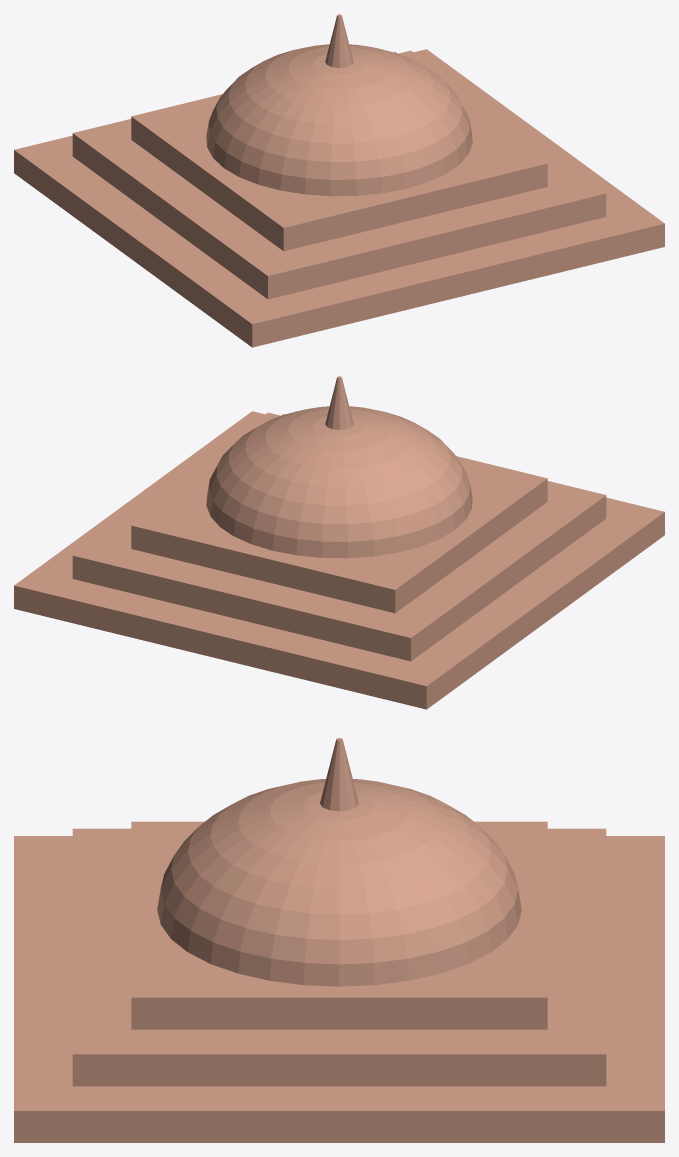
The model's file is place-sanchi-great-stupa.glb.
3 renders of one model, top to bottom at view 1: azimuth 30°, elevation 25°; view 2: azimuth 150°, elevation 25°; view 3: azimuth 270°, elevation 25°, orthographic. The views are drawn at different scales.
Parts seen in each view (by area): view 1: place-sanchi-great-stupa; view 2: place-sanchi-great-stupa; view 3: place-sanchi-great-stupa.
Part boxes in pixels (x1,y1,x2,y2): place-sanchi-great-stupa: (14, 14, 664, 347); place-sanchi-great-stupa: (14, 376, 664, 709); place-sanchi-great-stupa: (14, 738, 664, 1142).
Bounding box in the file's own units: 36.6 × 16.5 × 36.6.
